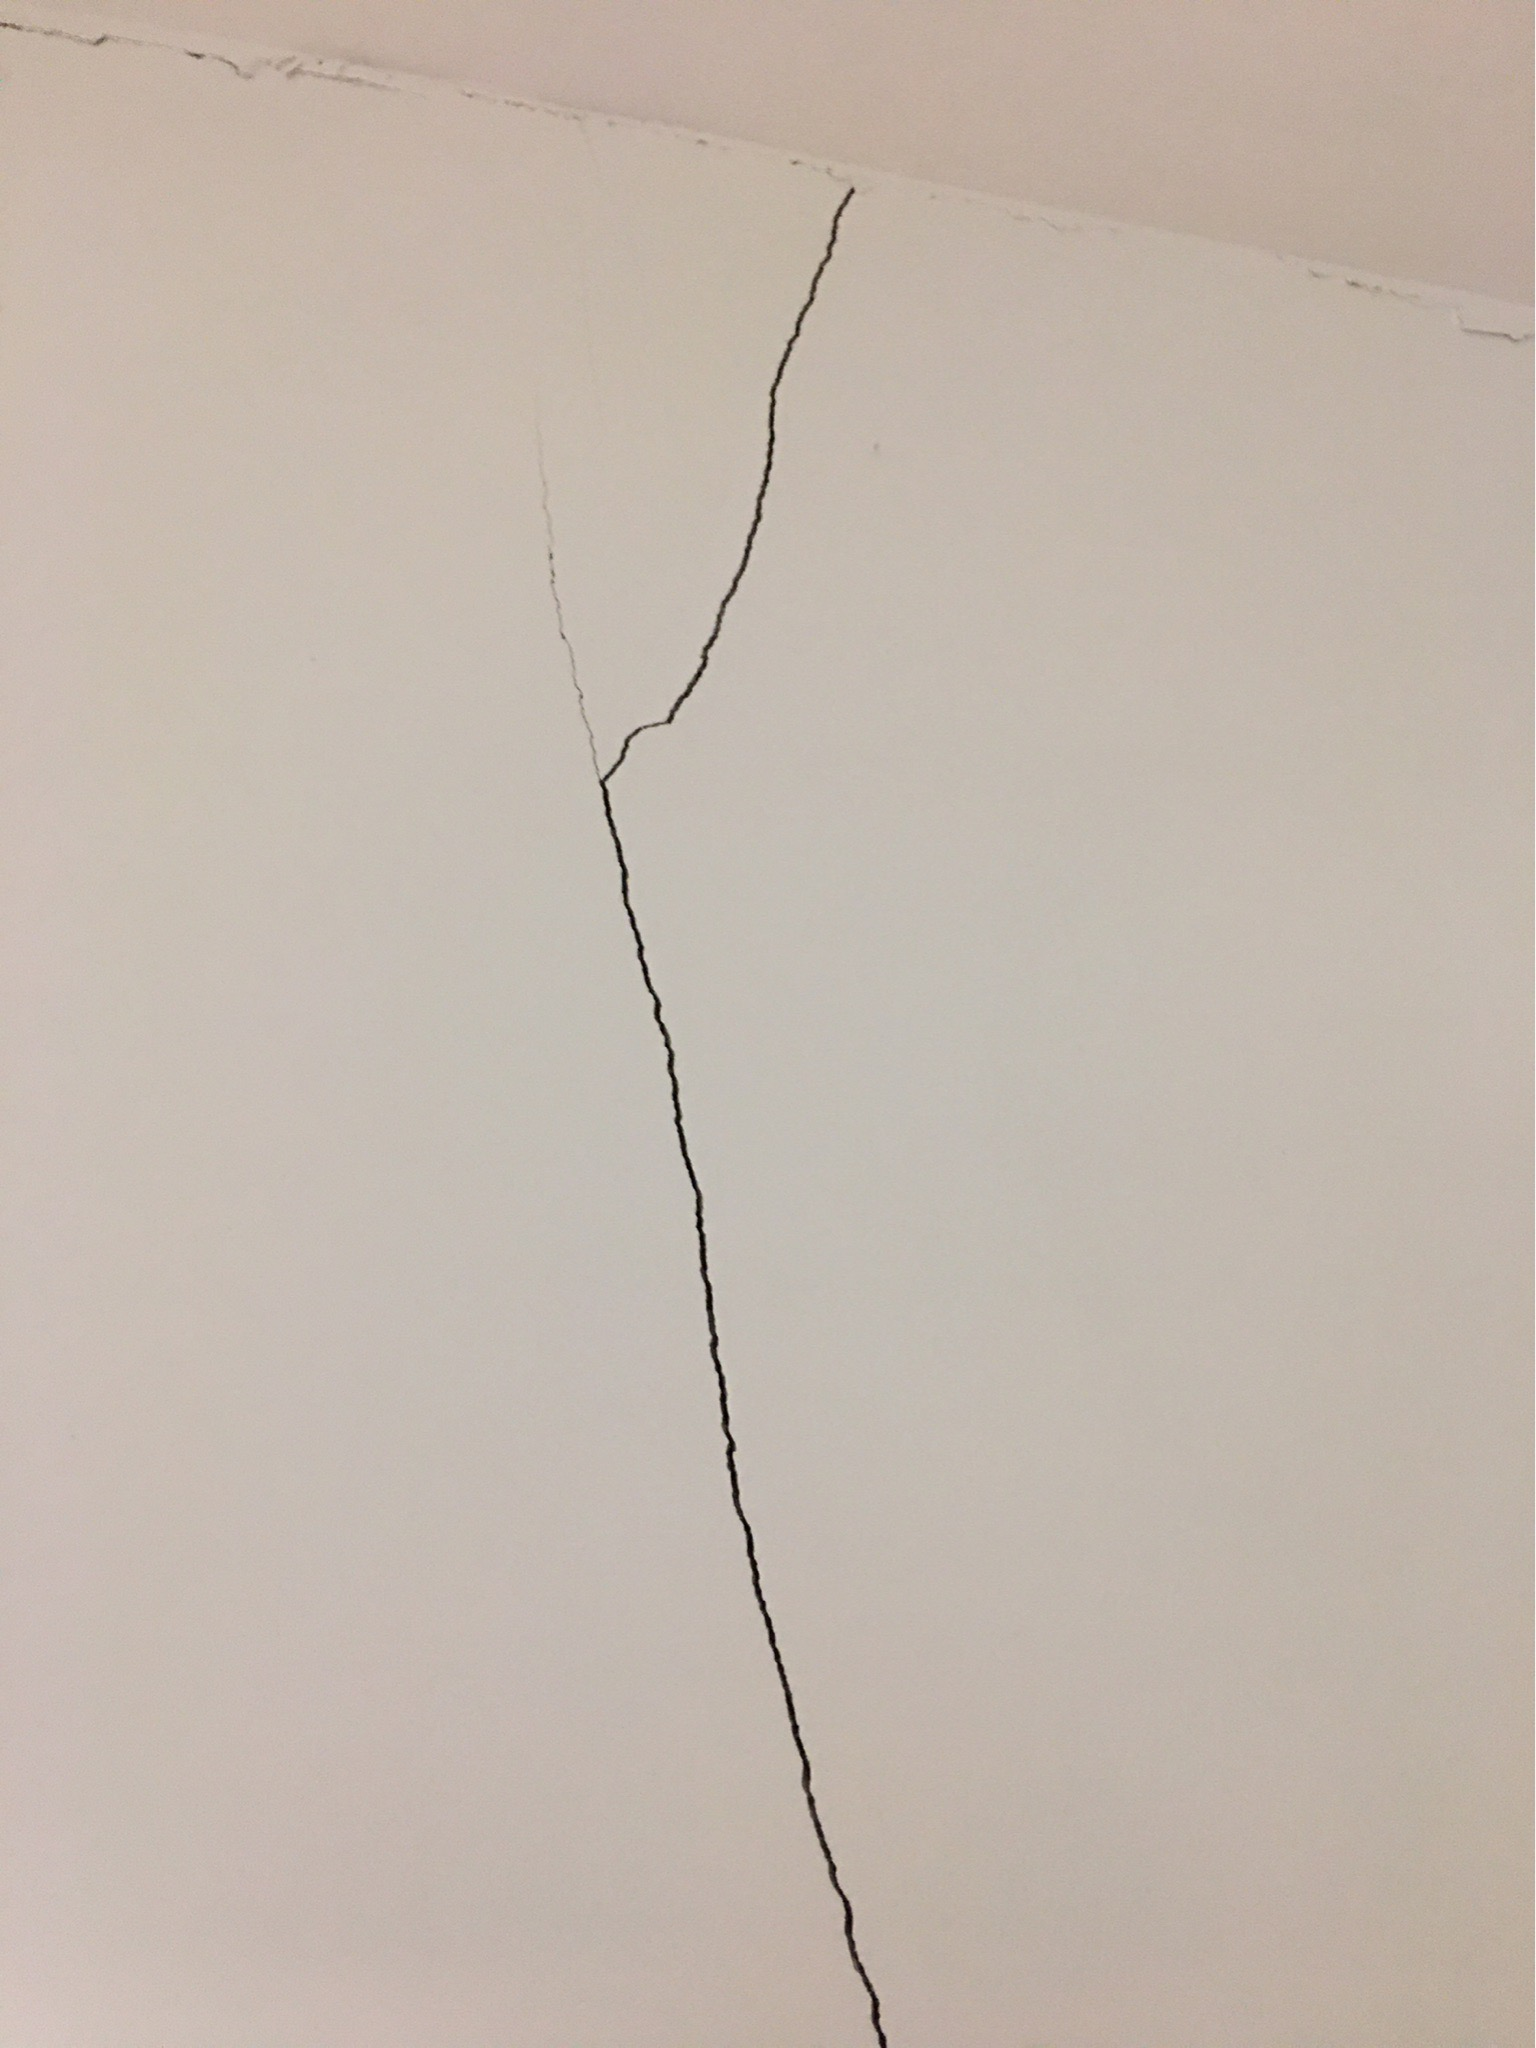Medium: (374, 169, 999, 1963)
